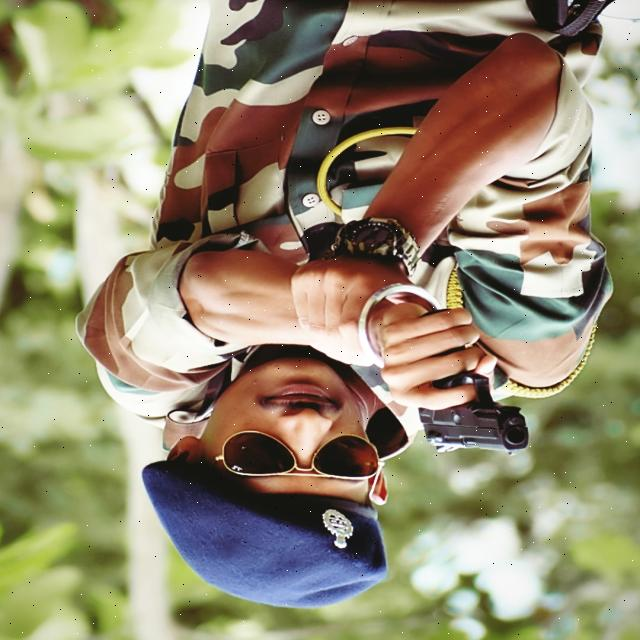gun: (398, 304, 548, 466)
